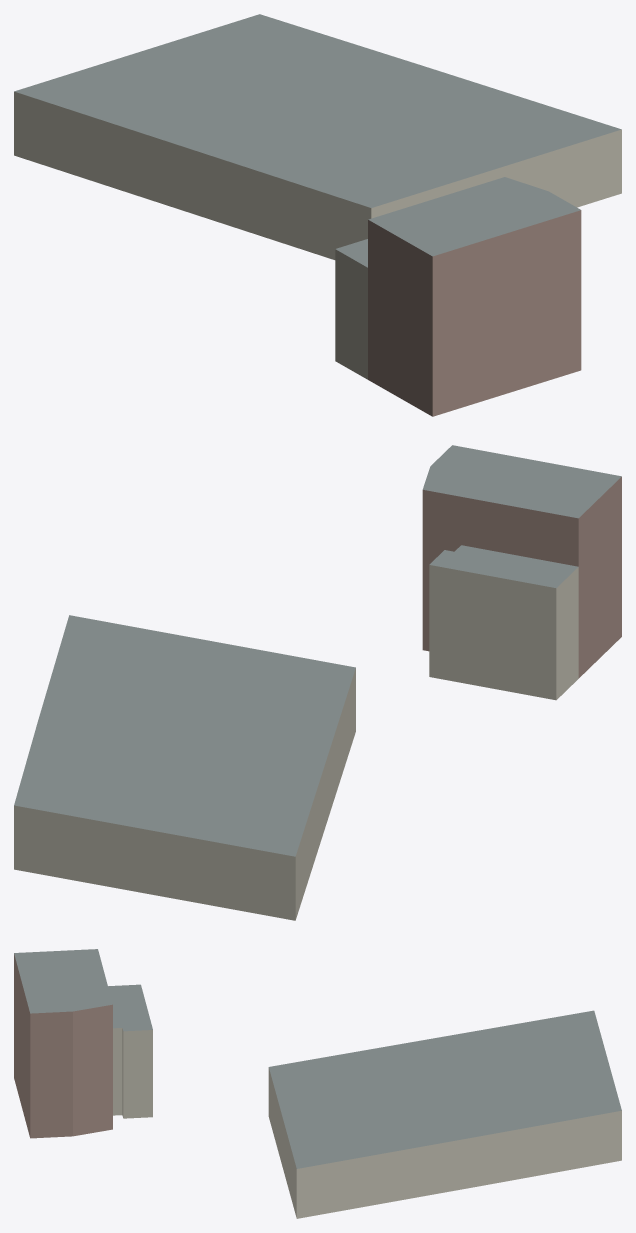
The model's file is context-2-1.gltf.
3 views of the same model, one above another, from view 1: azimuth 30°, elevation 25°; view 2: azimuth 150°, elevation 25°; view 3: azimuth 270°, elevation 25° (orthographic). The views are drawn at different scales.
Visible parts, largest first — view 1: context-2-1; view 2: context-2-1; view 3: context-2-1.
Boxes of the visible parts, x1,y1,x2,y2 form: context-2-1: [14, 14, 621, 416]; context-2-1: [14, 445, 621, 920]; context-2-1: [14, 949, 621, 1218].
Bounding box in the file's own units: 59.01 × 21.68 × 95.62.
